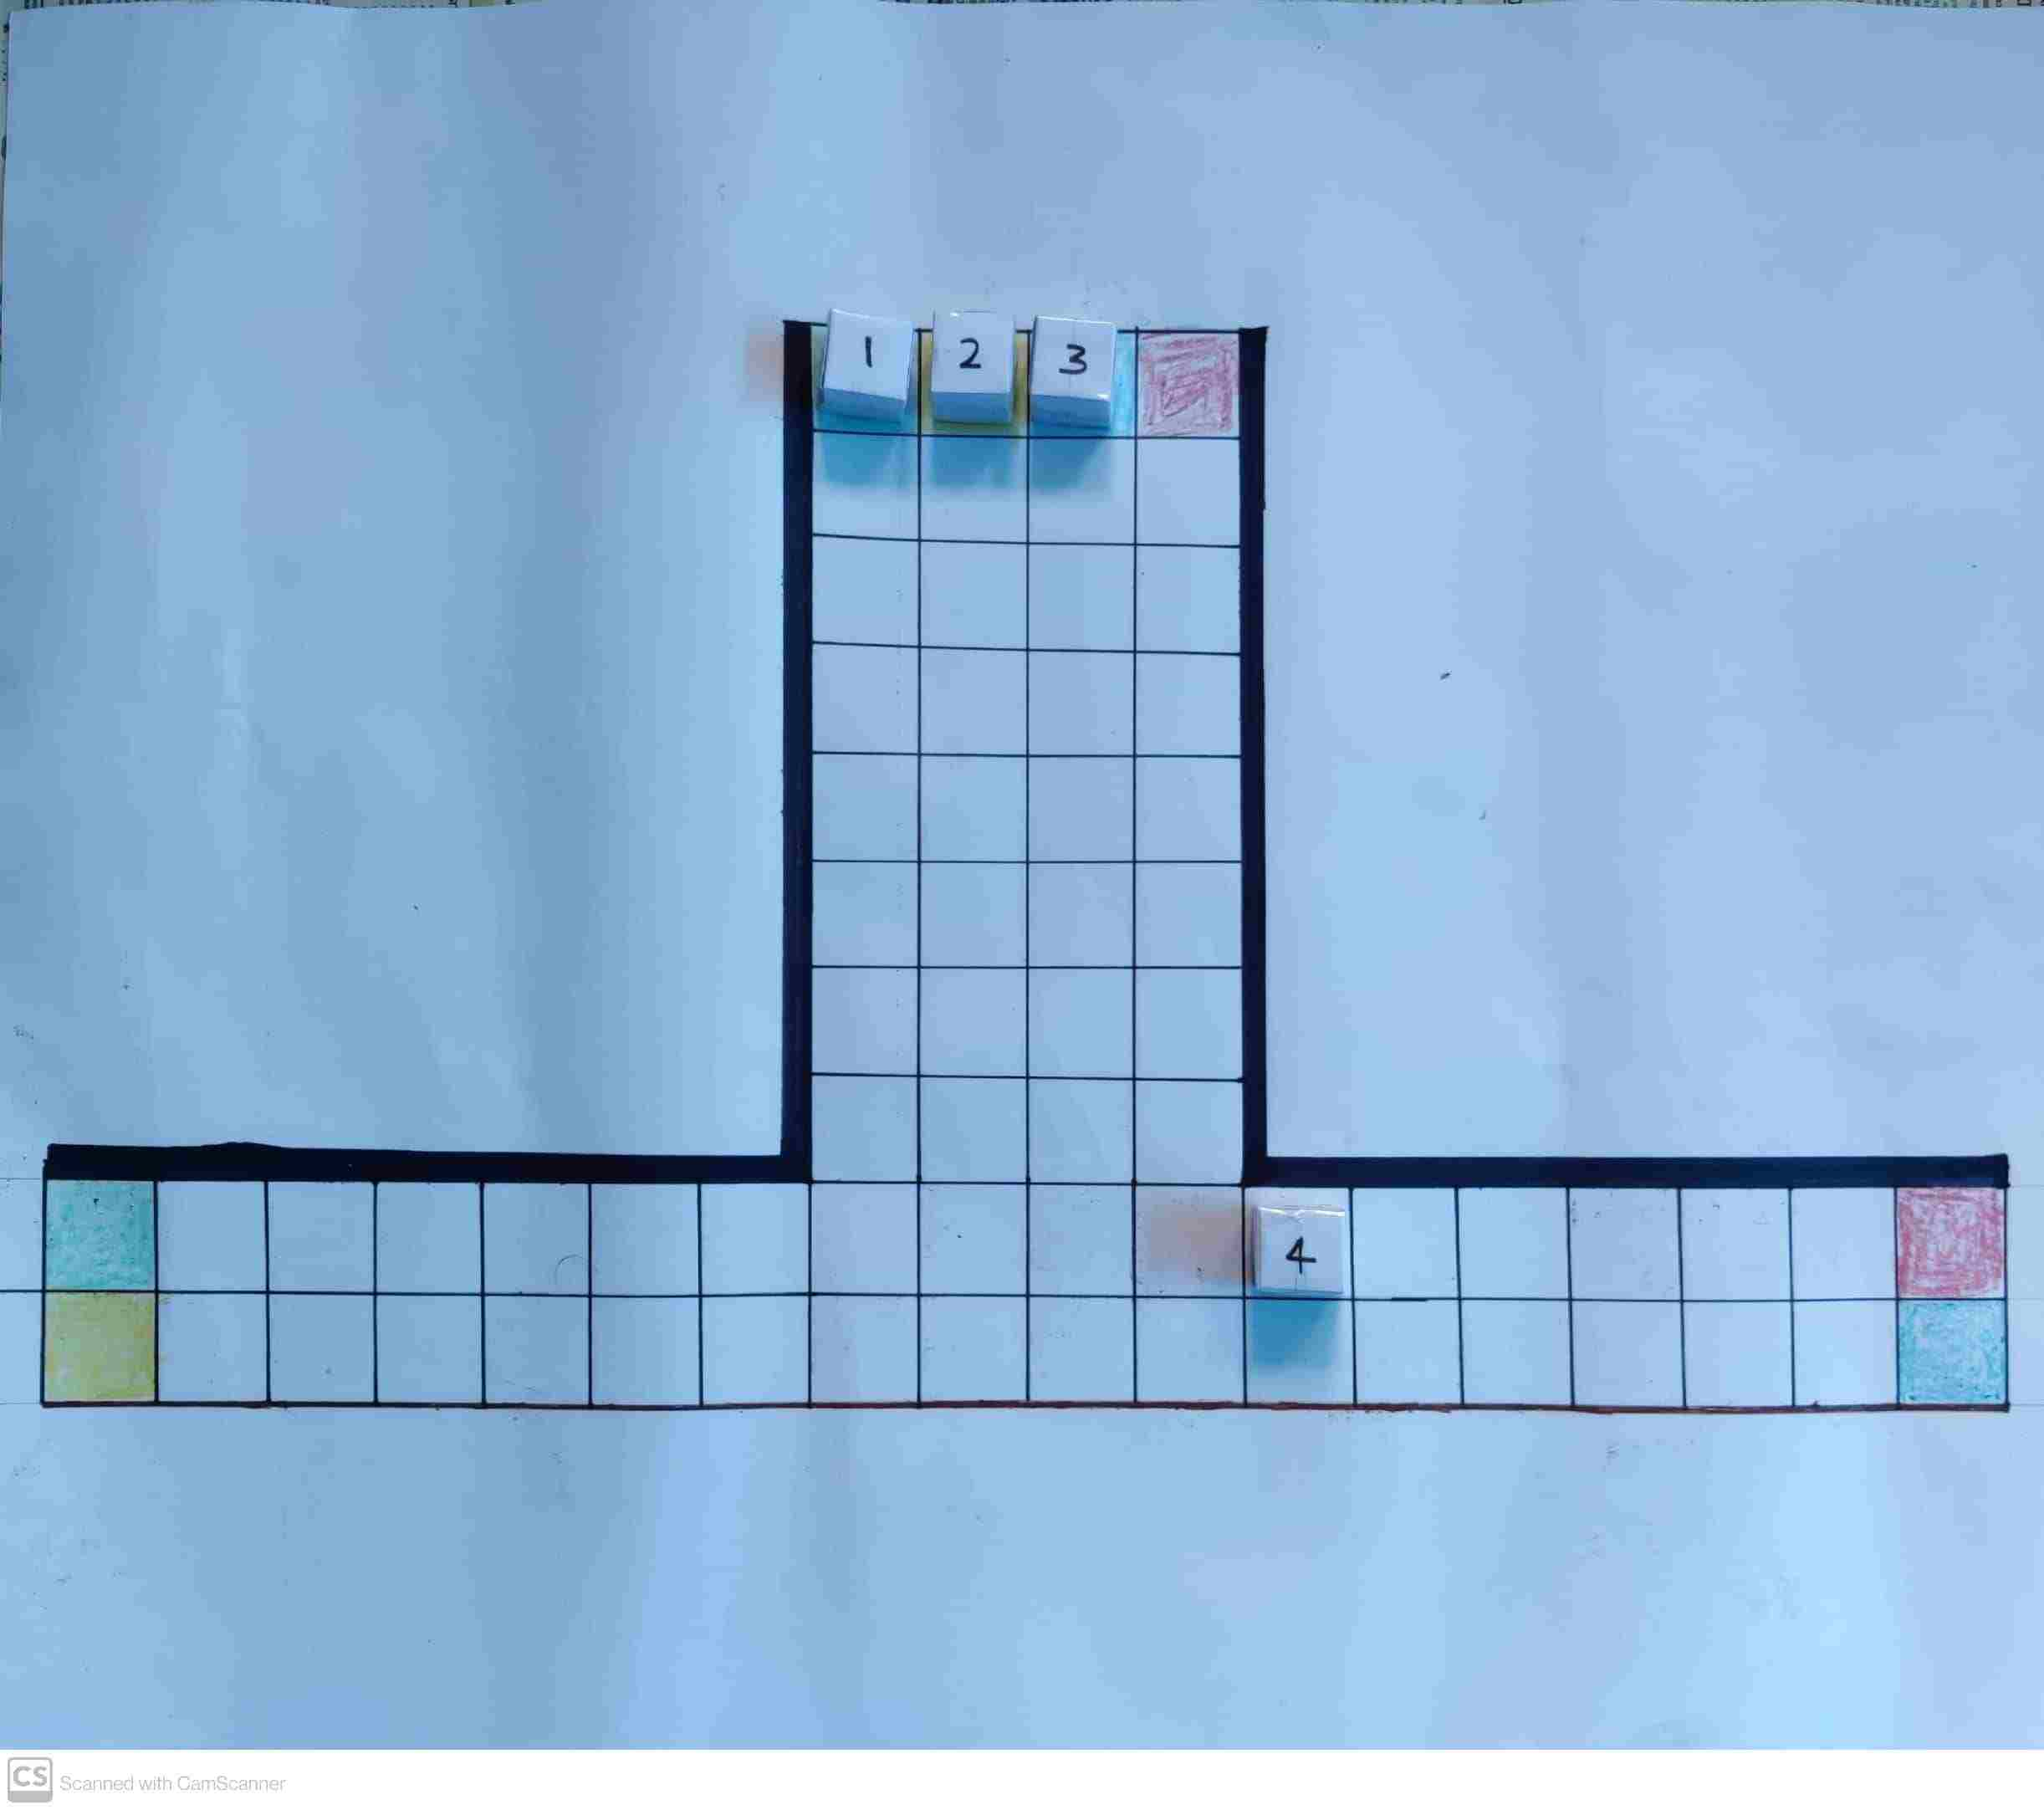arena: (40, 320, 2016, 1413)
bot: (1254, 1207, 1349, 1298), (1034, 320, 1118, 400), (826, 314, 910, 393), (931, 316, 1015, 393)
